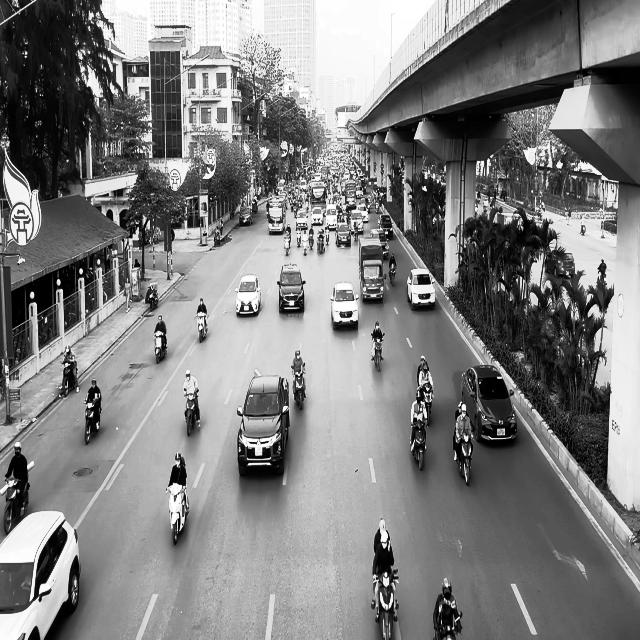car: (0, 510, 81, 640), (236, 369, 290, 476), (461, 364, 517, 443), (277, 263, 305, 313), (330, 281, 359, 329), (406, 268, 436, 310), (235, 274, 261, 315), (545, 249, 575, 278), (238, 206, 252, 226)
motorbike: (372, 569, 399, 639), (2, 471, 32, 533), (166, 483, 189, 545), (455, 430, 474, 485), (410, 419, 428, 470), (84, 394, 101, 444), (433, 610, 462, 639), (58, 360, 79, 398), (183, 390, 200, 436), (291, 362, 306, 410), (421, 384, 434, 426), (371, 332, 384, 371), (153, 329, 167, 364), (146, 283, 158, 310), (197, 312, 207, 342)
